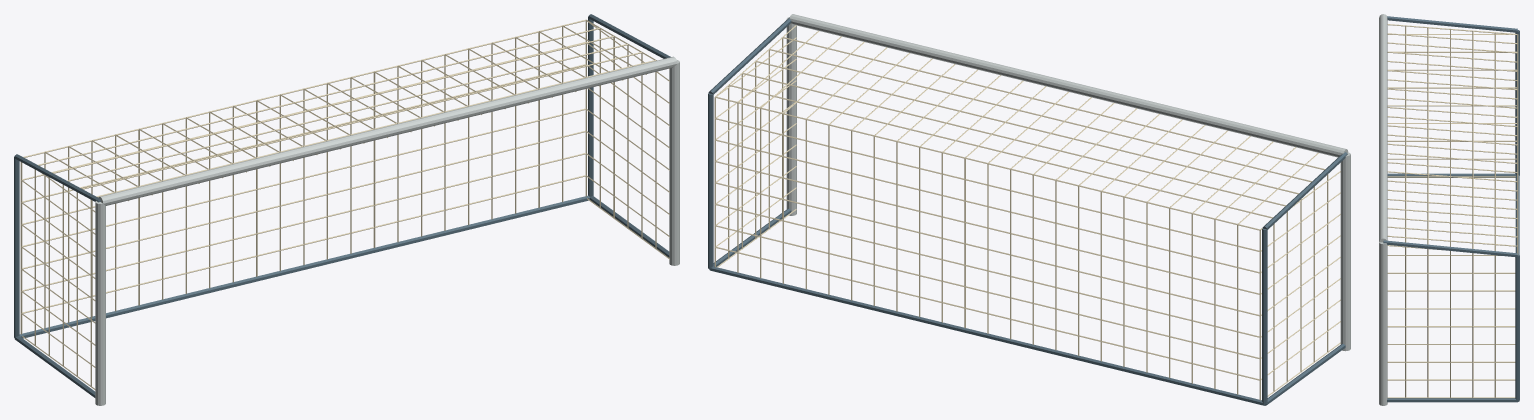
Rendered from soccer-goal.glb.
The picture shows the model from 3 angles, left to right: view 1: azimuth 30°, elevation 25°; view 2: azimuth 150°, elevation 25°; view 3: azimuth 270°, elevation 25°; orthographic projection. The views are drawn at different scales.
Parts seen in each view (by area): view 1: net, goal_support, crossbar, goal_post; view 2: net, goal_support, crossbar, goal_post; view 3: net, goal_support, crossbar, goal_post.
Part boxes in pixels (left/top/right/bottom): net: left=20, top=19, right=669, bottom=389; goal_support: left=14, top=14, right=670, bottom=397; crossbar: left=98, top=56, right=677, bottom=205; goal_post: left=95, top=59, right=679, bottom=405; net: left=714, top=25, right=1340, bottom=400; goal_support: left=708, top=17, right=1347, bottom=405; crossbar: left=789, top=14, right=1348, bottom=157; goal_post: left=786, top=17, right=1350, bottom=351; net: left=1387, top=24, right=1518, bottom=398; goal_support: left=1383, top=16, right=1519, bottom=402; crossbar: left=1379, top=14, right=1387, bottom=242; goal_post: left=1379, top=242, right=1387, bottom=405.
Bounding box in the file's own units: 7.56 × 2.56 × 1.97.
